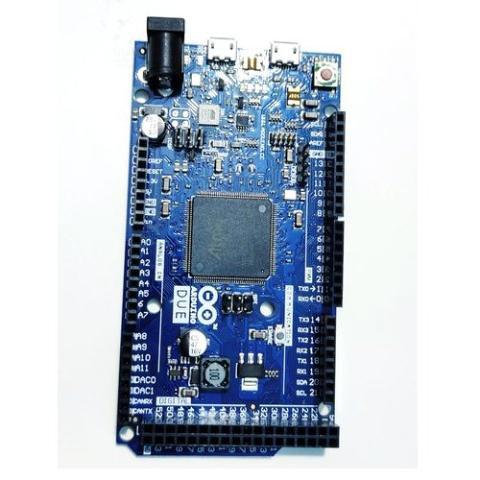Arduino-Due: (109, 9, 349, 465)
